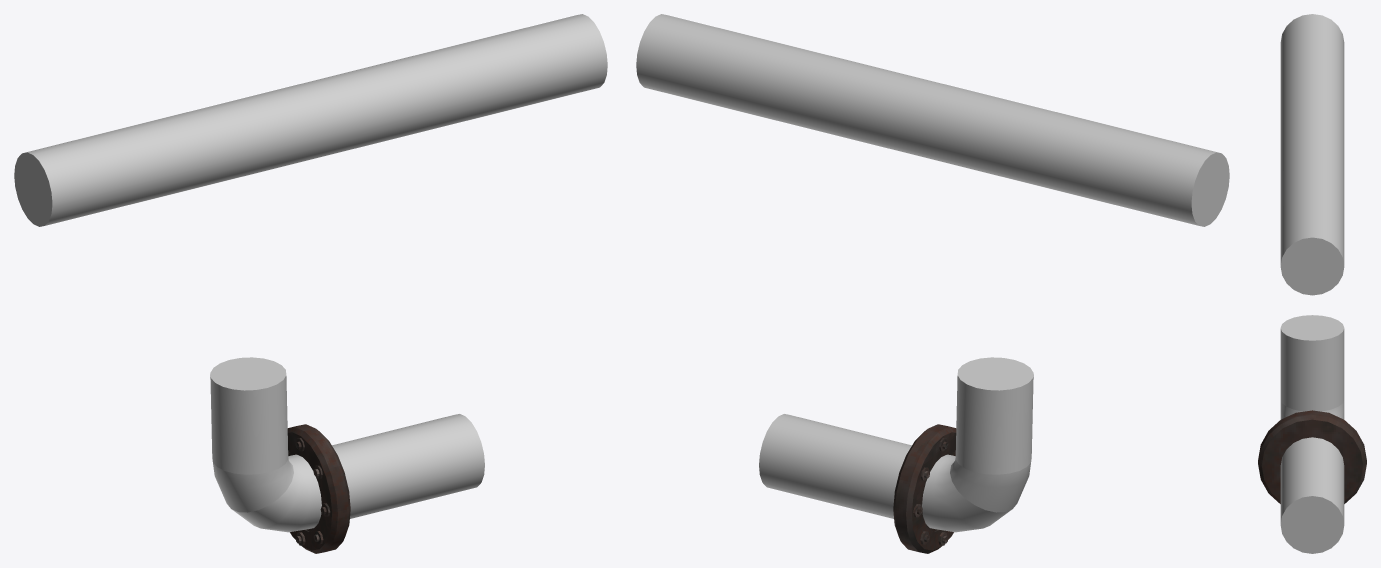
Rendered from pipesandconnector.fbx.
3 views of the same model, side by side, from view 1: azimuth 30°, elevation 25°; view 2: azimuth 150°, elevation 25°; view 3: azimuth 270°, elevation 25° (orthographic). The views are drawn at different scales.
Parts seen in each view (by area): view 1: pCylinder3, pCylinder21, pCylinder2; view 2: pCylinder3, pCylinder21, pCylinder2; view 3: pCylinder3, pCylinder21, pCylinder2.
Part boxes in pixels (box(x1,y1,x2,y2)): pCylinder3: box(14, 14, 607, 226); pCylinder21: box(210, 357, 484, 532); pCylinder2: box(287, 424, 350, 553); pCylinder3: box(636, 14, 1229, 226); pCylinder21: box(759, 357, 1033, 532); pCylinder2: box(893, 424, 956, 553); pCylinder3: box(1280, 14, 1344, 295); pCylinder21: box(1280, 315, 1344, 553); pCylinder2: box(1258, 410, 1366, 503).
Size of the model in its own units: 9.84 by 7.85 by 2.
